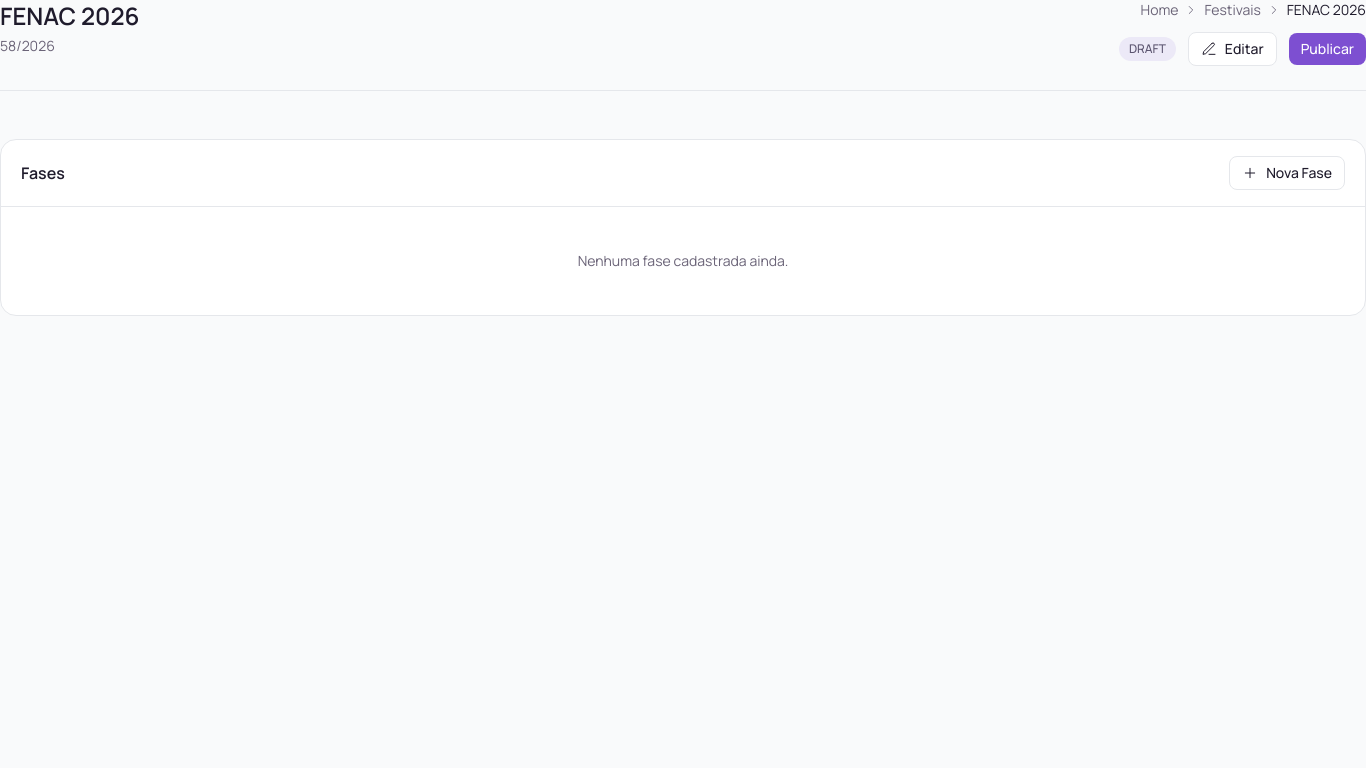
it: FestivalDetail › opens the edit modal when "Editar" is clicked, pre-filled with the current name
expect the heading "FENAC 2026" is shown: met, box x1=0 y1=0 x2=139 y2=32
Click the button "Editar". click: coordinates (1232, 49)
box: x1=1188 y1=32 x2=1277 y2=66
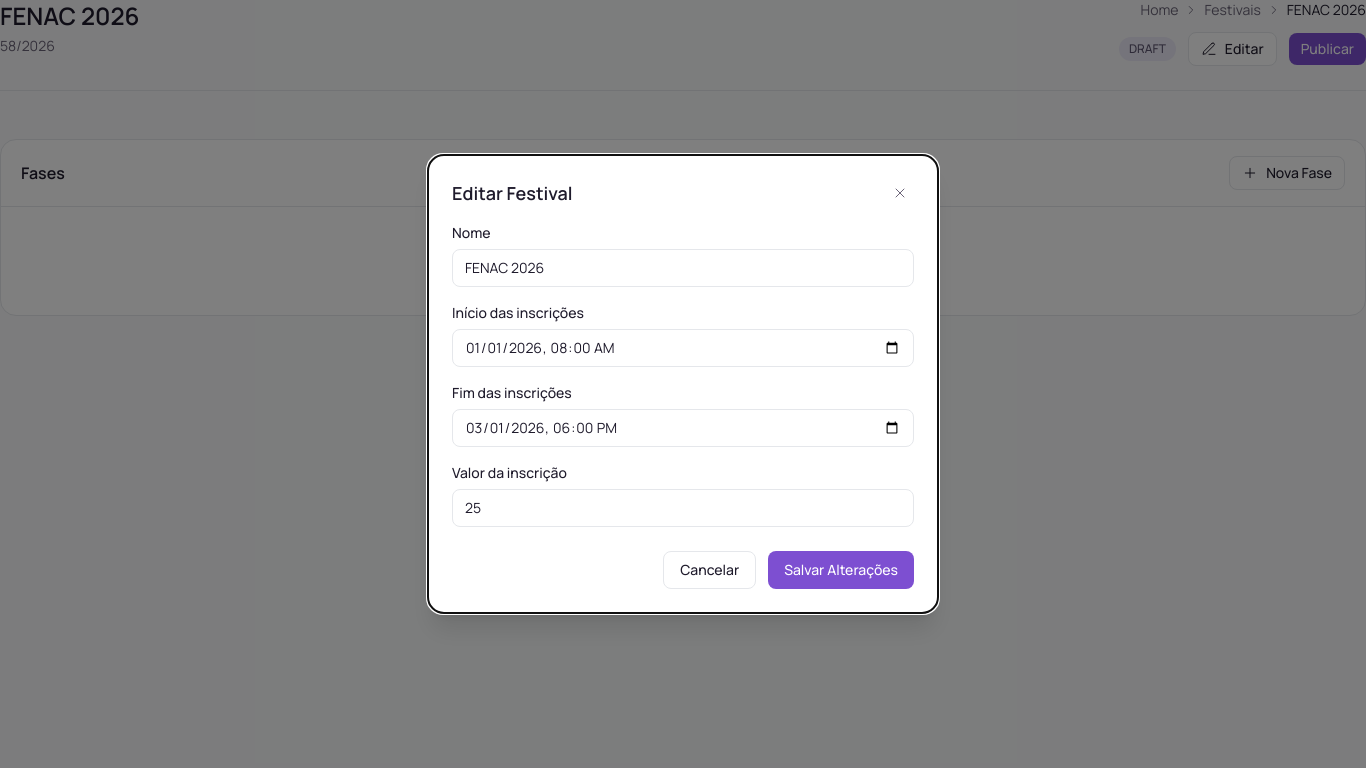
expect the dialog "Editar Festival" is shown: met, box x1=427 y1=154 x2=939 y2=614
expect the field labelled "Nome" holds "FENAC 2026": met, box x1=452 y1=249 x2=914 y2=287
